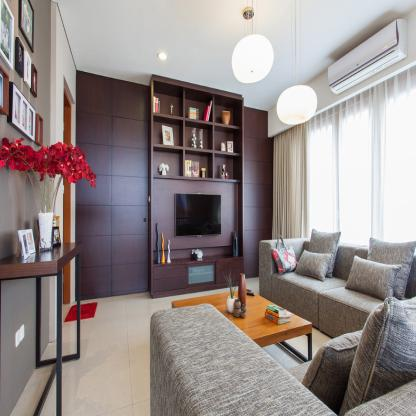meja: (164, 286, 321, 356)
sova: (258, 224, 416, 340)
tanaman: (3, 134, 97, 249)
